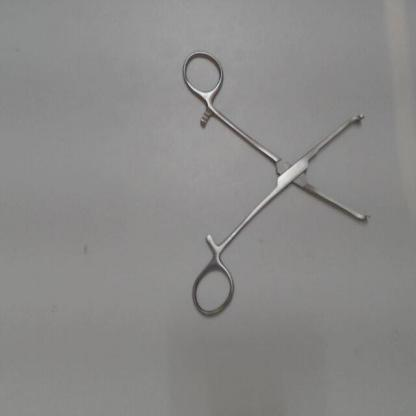Allis Tissue Forceps: (180, 48, 372, 323)
